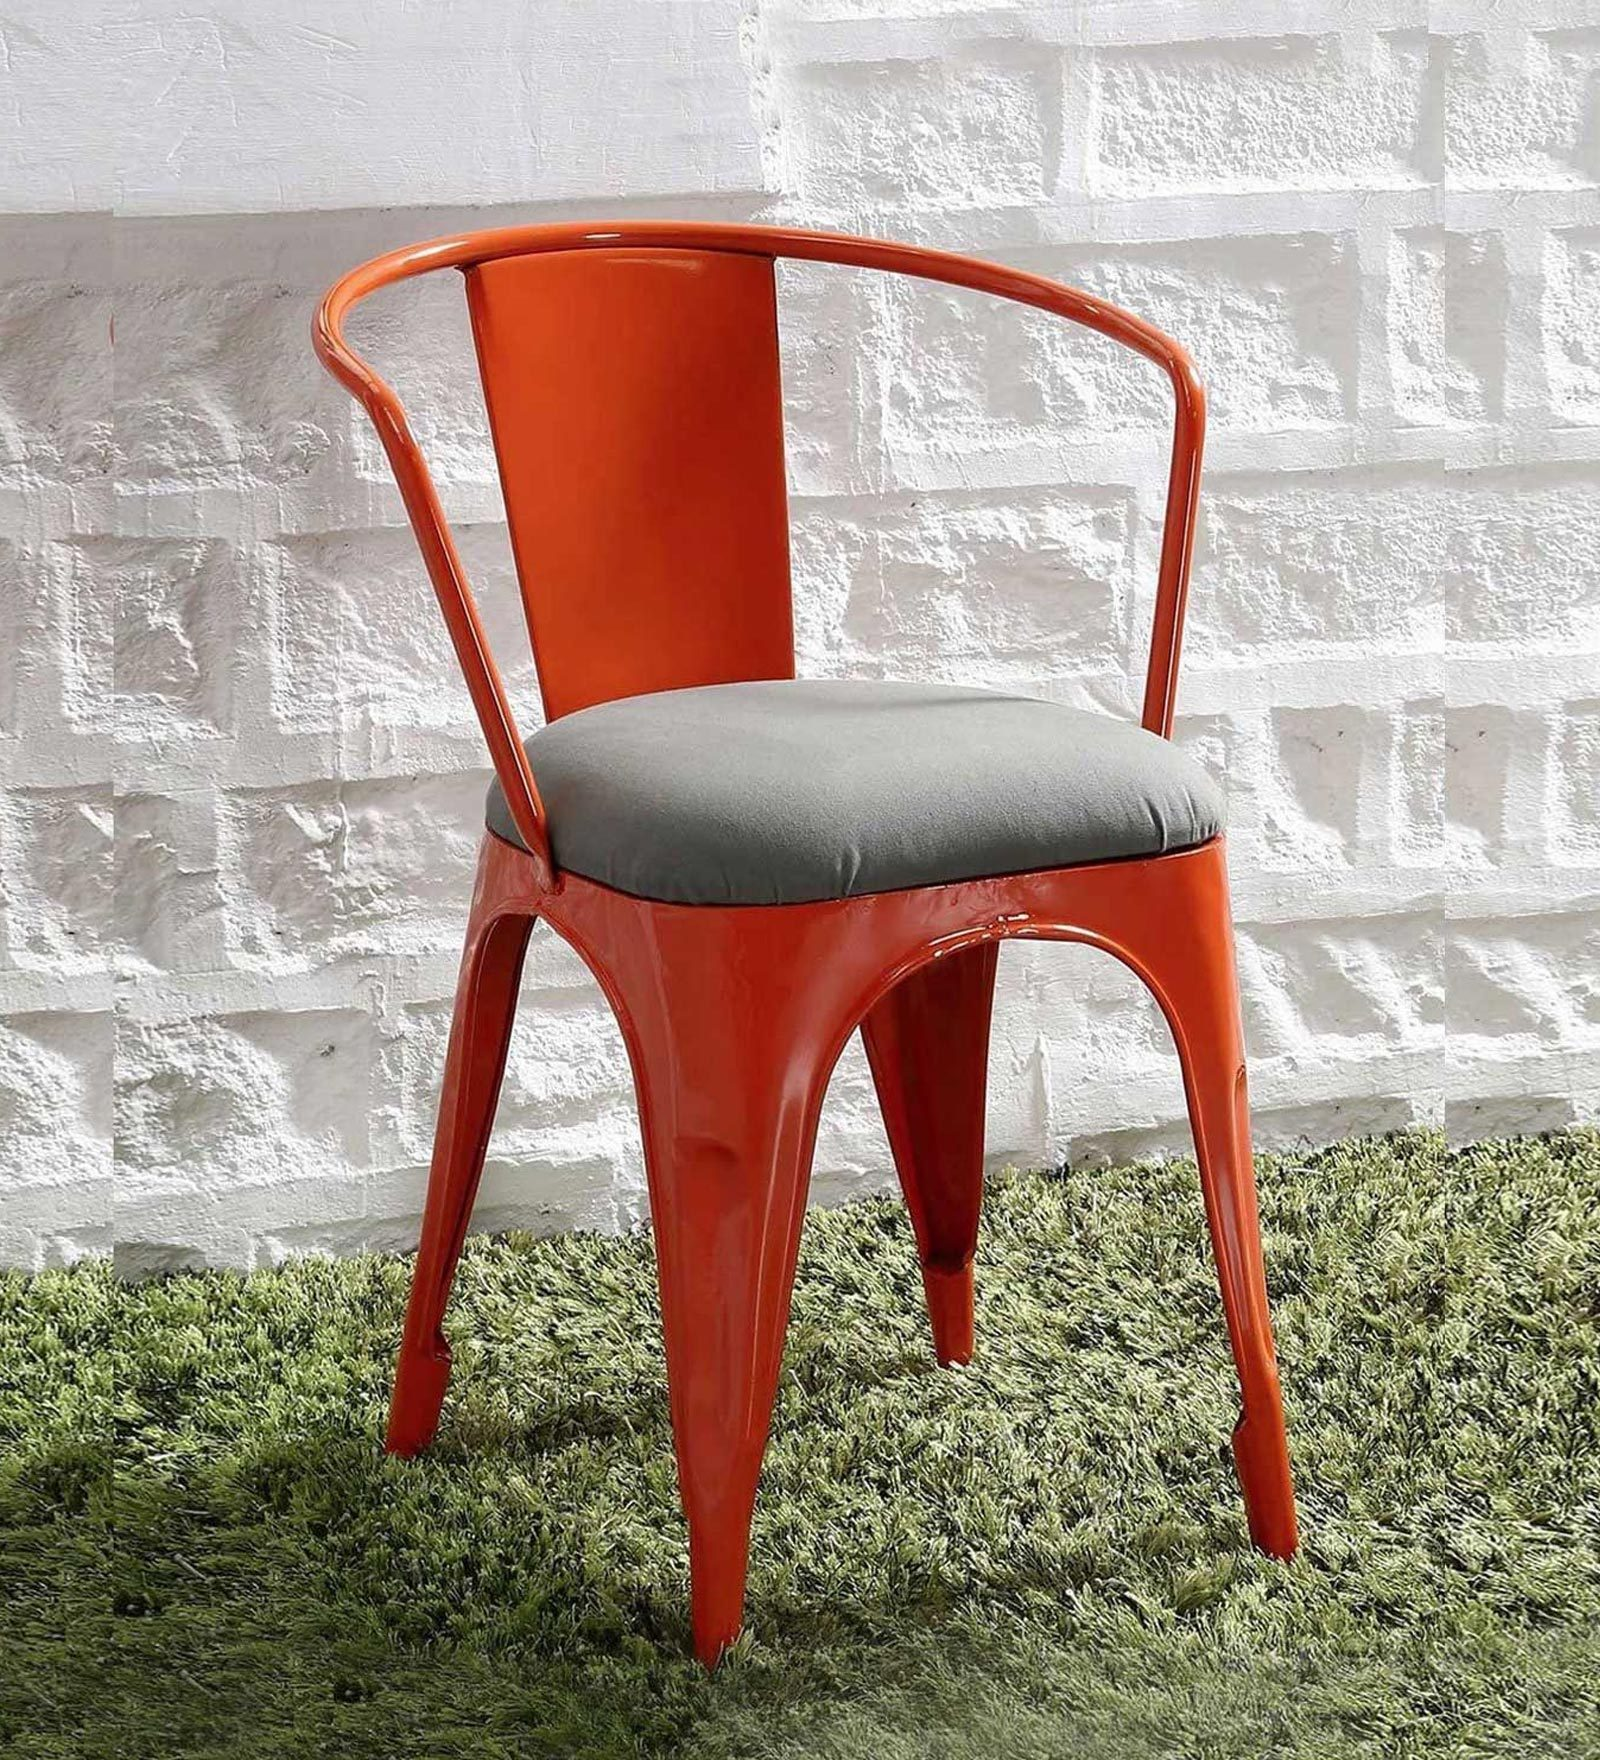Danlou Metal Chair with Cushion In Orange Colour by Bohemiana: (273, 179, 1373, 1650)
